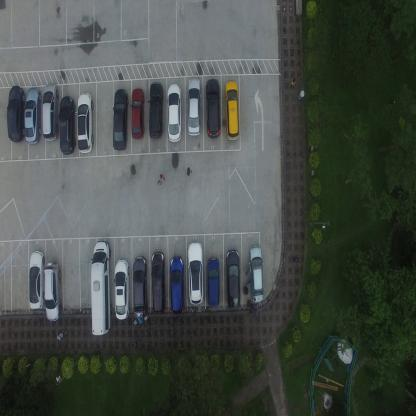car: (90, 238, 112, 336), (76, 90, 94, 154), (6, 83, 25, 142), (58, 94, 76, 156), (187, 240, 204, 304), (41, 82, 59, 142), (44, 260, 61, 322), (112, 87, 128, 151), (132, 255, 148, 319), (204, 78, 221, 138), (113, 257, 129, 320), (224, 80, 240, 142), (166, 81, 182, 143), (24, 87, 41, 145), (28, 249, 44, 310), (224, 249, 240, 309), (148, 81, 164, 140), (186, 76, 201, 138), (248, 245, 264, 303), (151, 250, 165, 315), (169, 255, 184, 315), (130, 86, 144, 140), (206, 256, 220, 308)
